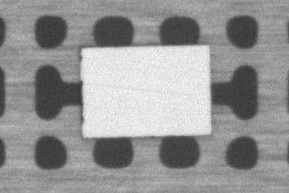DIE_CRACK: (135, 56, 286, 63)
